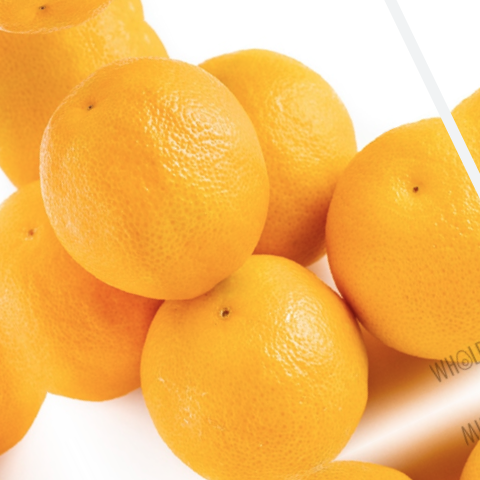orange: (0, 15, 324, 344), (91, 202, 436, 480), (265, 70, 480, 407)
